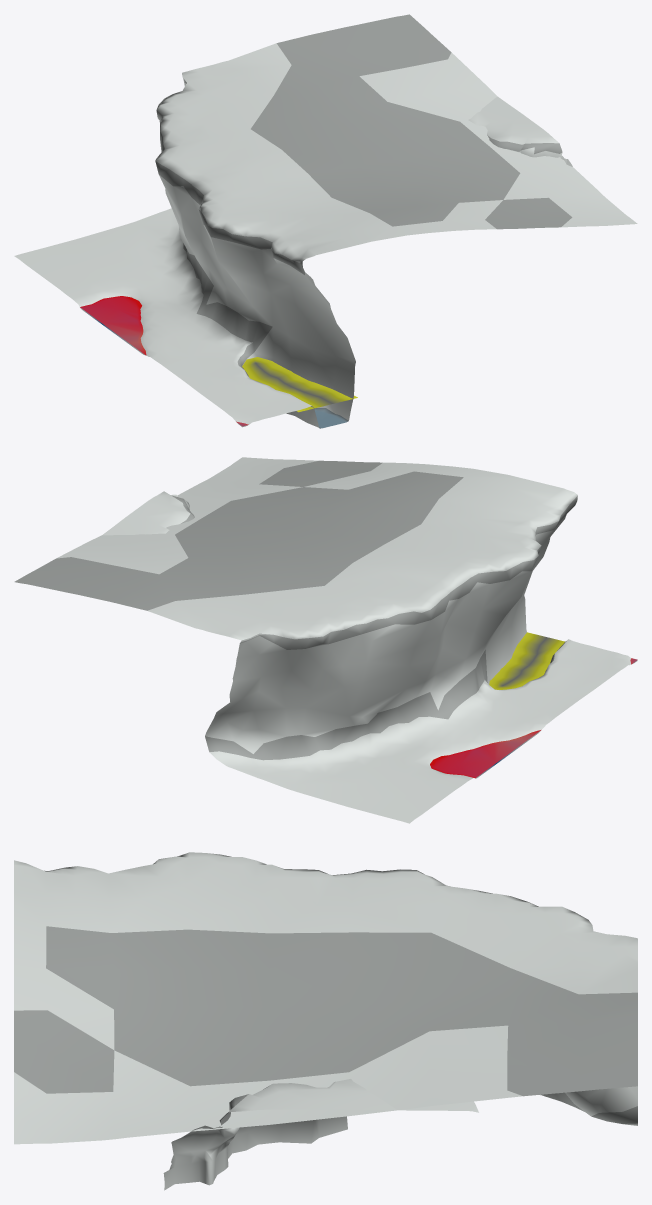
The picture shows the model from 3 angles, top to bottom: view 1: azimuth 30°, elevation 25°; view 2: azimuth 150°, elevation 25°; view 3: azimuth 270°, elevation 25°; orthographic projection. The views are drawn at different scales.
Visible parts, largest first — view 1: G:\FFXIV-MapTools\exports\r2f1\bg\ex1\01_roc_r2\fld\r2f1\bgp (×7); view 2: G:\FFXIV-MapTools\exports\r2f1\bg\ex1\01_roc_r2\fld\r2f1\bgp (×7); view 3: G:\FFXIV-MapTools\exports\r2f1\bg\ex1\01_roc_r2\fld\r2f1\bgp (×6).
Boxes of the visible parts, left/top/right/bottom form: G:\FFXIV-MapTools\exports\r2f1\bg\ex1\01_roc_r2\fld\r2f1\bgp (×7): left=14, top=14, right=637, bottom=427; G:\FFXIV-MapTools\exports\r2f1\bg\ex1\01_roc_r2\fld\r2f1\bgp (×7): left=14, top=457, right=637, bottom=823; G:\FFXIV-MapTools\exports\r2f1\bg\ex1\01_roc_r2\fld\r2f1\bgp (×6): left=14, top=852, right=637, bottom=1190.
Size of the model in its own units: 128 by 54.12 by 128.
